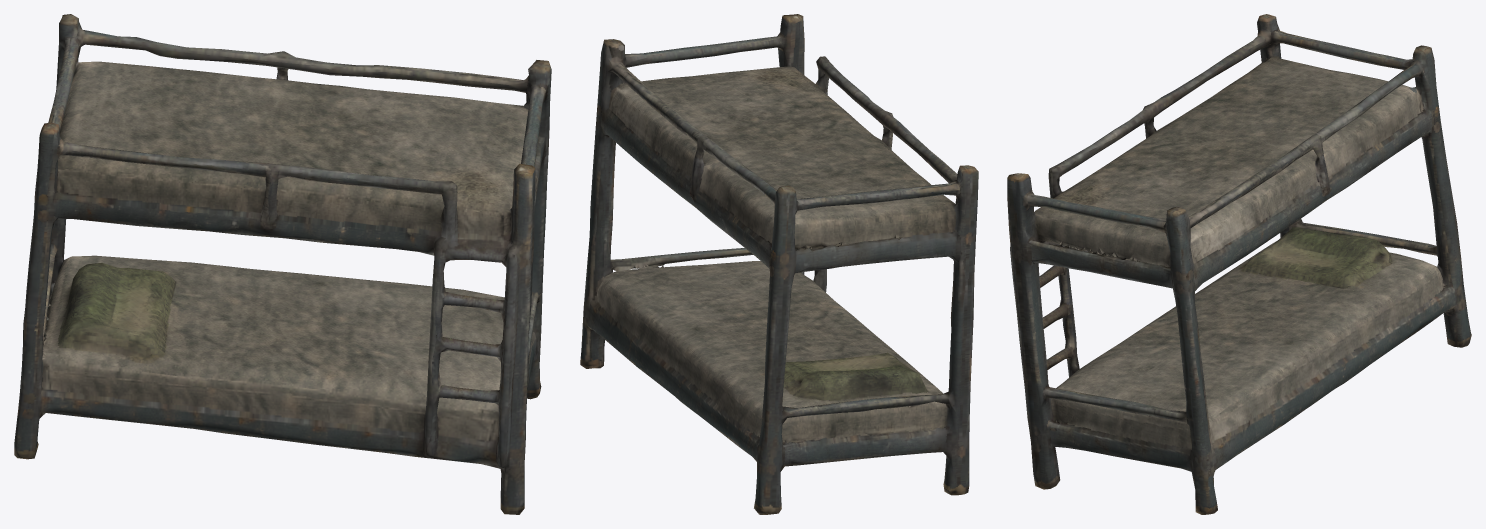
Rendered from raw.glb.
3 views of the same model, side by side, from view 1: azimuth 30°, elevation 25°; view 2: azimuth 150°, elevation 25°; view 3: azimuth 270°, elevation 25° (orthographic). The views are drawn at different scales.
Size of the model in its own units: 0.9137 by 0.7219 by 0.8875.
Materials: 1 (1 with a texture image).
